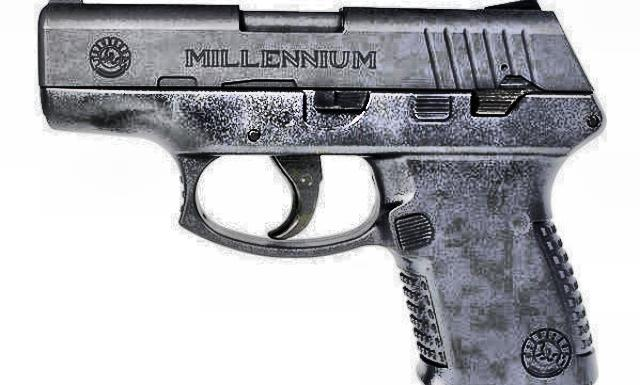pistol: (31, 1, 603, 384)
